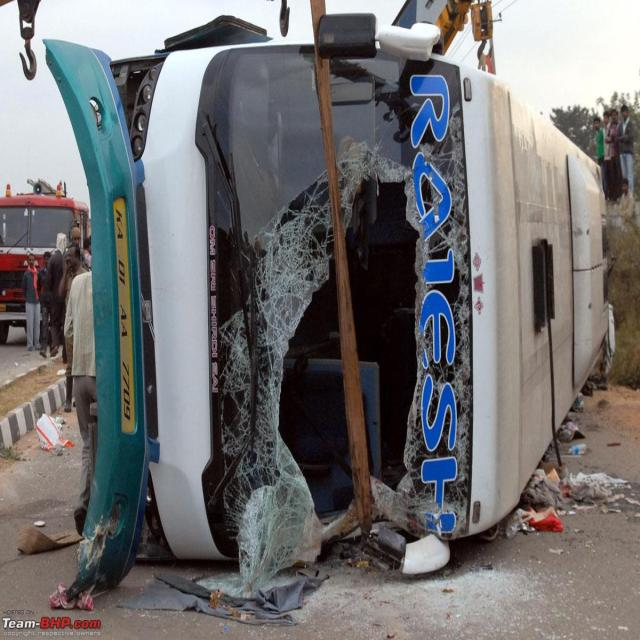accident: (46, 0, 610, 598)
